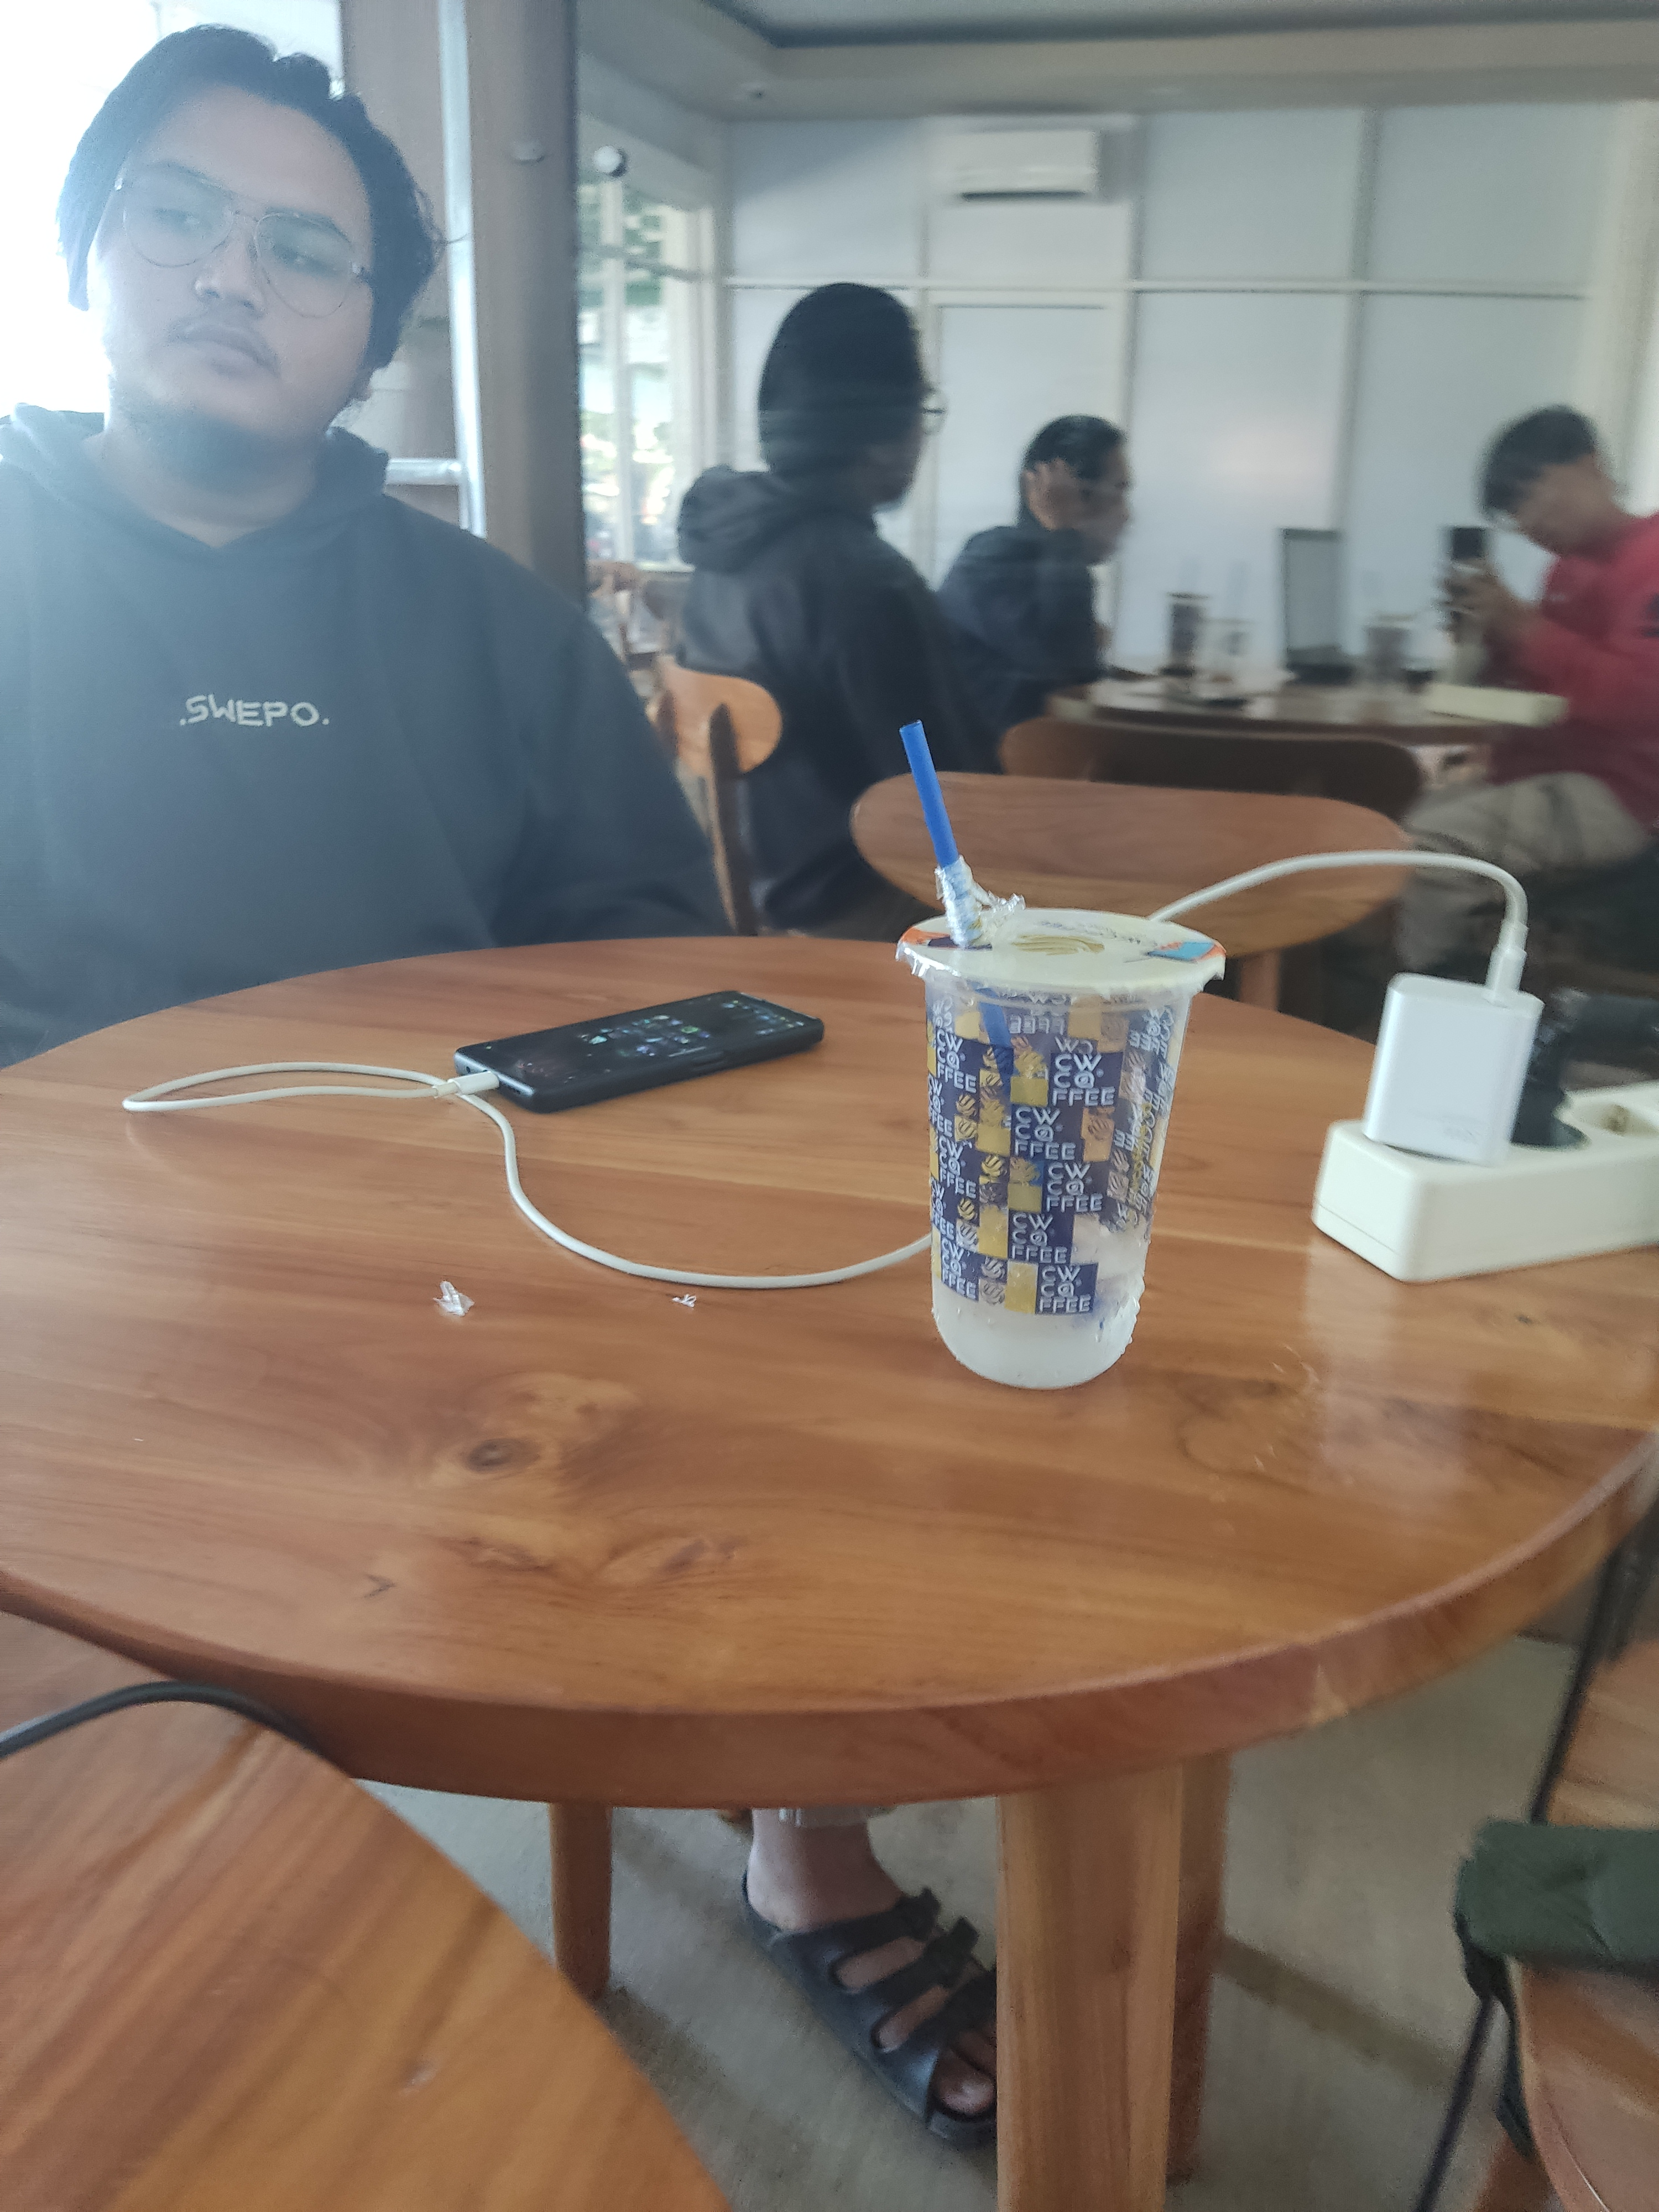Gelas CW: (903, 894, 1201, 1395)
